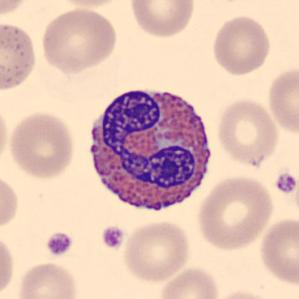Eosinophil: (82, 77, 220, 223)
Platelets: (44, 231, 74, 257), (100, 224, 125, 251), (273, 172, 297, 196)
RBC: (194, 173, 276, 252), (38, 6, 120, 74), (6, 110, 76, 182), (214, 95, 280, 168), (121, 218, 193, 284), (210, 13, 272, 77), (257, 215, 298, 287), (0, 20, 39, 94), (127, 0, 198, 40), (16, 259, 80, 299), (265, 63, 298, 136), (157, 265, 221, 299), (0, 172, 21, 233), (0, 231, 16, 298), (0, 102, 11, 170), (0, 0, 34, 21), (210, 289, 280, 299), (48, 0, 126, 8)
